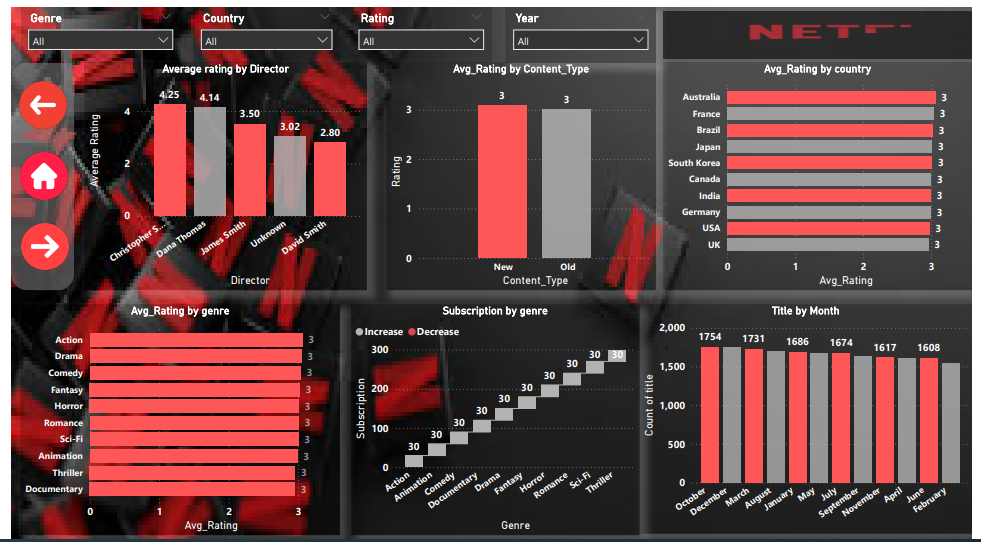

The dashboard page shown, as its layout file describes it:
{"tool":"powerbi","page":{"name":"R & D","canvas":[1280,720],"ordinal":1},"visuals":[{"type":"lineStackedColumnComboChart","title":"Average rating by Director","fields":{"Y":["Avg(netflix_customer_ratings_20000.rating)"],"Category":["netflix_dataset_20000 csv.director"]},"box":[98.3,73.7,375.9,303.6],"z":0},{"type":"clusteredColumnChart","title":"Title by Month","fields":{"Category":["netflix_dataset_20000 csv.Month"],"Y":["CountNonNull(netflix_dataset_20000 csv.title)"]},"box":[837.1,396.1,442.4,305.1],"z":1000},{"type":"waterfallChart","title":"Subscription by genre","fields":{"Category":["netflix_dataset_20000 csv.genre"],"Y":["CountNonNull(Sub_Type.subscription_type)"]},"box":[452.5,396.1,384.6,306.5],"z":2000},{"type":"clusteredColumnChart","title":"Avg_Rating by Content_Type ","fields":{"Category":["netflix_dataset_20000 csv.Content_Type"],"Y":["netflix_customer_ratings_20000.Avg_Rating"]},"box":[500.2,73.7,358.6,303.6],"z":3000},{"type":"clusteredBarChart","fields":{"Category":["netflix_dataset_20000 csv.genre"],"Y":["netflix_customer_ratings_20000.Avg_Rating"]},"box":[13,396.1,425.1,306.5],"z":4000},{"type":"barChart","fields":{"Category":["netflix_customer_ratings_20000.country"],"Y":["netflix_customer_ratings_20000.Avg_Rating"]},"box":[868.9,73.7,410.6,303.6],"z":5000},{"type":"slicer","fields":{"Values":["netflix_dataset_20000 csv.genre","netflix_customer_ratings_20000.Watcher_type"]},"box":[13,0,212.5,73.7],"z":6000},{"type":"slicer","fields":{"Values":["netflix_customer_ratings_20000.country"]},"box":[242.9,0,195.2,73.7],"z":7000},{"type":"slicer","fields":{"Values":["netflix_customer_ratings_20000.rating"]},"box":[452.5,0,188,73.7],"z":8000},{"type":"slicer","fields":{"Values":["netflix_dataset_20000 csv.release_year"]},"box":[659.3,0,199.5,73.7],"z":9000},{"type":"shape","box":[0,73.7,83.9,303.6],"z":10000},{"type":"image","box":[2.9,193.7,81,62.2],"z":11000},{"type":"image","box":[5.8,287.7,78.1,62.2],"z":12000},{"type":"image","box":[1.4,96.9,81,68],"z":13000},{"type":"image","box":[868.9,5.8,410.6,63.6],"z":14000}]}

Visuals, with their boxes in screenshot pixels (x1, y1, x2, y2), scaled from the page's 1280x720 canvas onto the 981x542 screenshot:
"Average rating by Director" lineStackedColumnComboChart: left=75, top=55, right=363, bottom=284
"Title by Month" clusteredColumnChart: left=642, top=298, right=980, bottom=528
"Subscription by genre" waterfallChart: left=347, top=298, right=642, bottom=529
"Avg_Rating by Content_Type " clusteredColumnChart: left=383, top=55, right=658, bottom=284
clusteredBarChart - netflix_dataset_20000 csv.genre x netflix_customer_ratings_20000.Avg_Rating: left=10, top=298, right=336, bottom=529
barChart - netflix_customer_ratings_20000.country x netflix_customer_ratings_20000.Avg_Rating: left=666, top=55, right=980, bottom=284
slicer - netflix_dataset_20000 csv.genre x netflix_customer_ratings_20000.Watcher_type: left=10, top=0, right=173, bottom=55
slicer - netflix_customer_ratings_20000.country: left=186, top=0, right=336, bottom=55
slicer - netflix_customer_ratings_20000.rating: left=347, top=0, right=491, bottom=55
slicer - netflix_dataset_20000 csv.release_year: left=505, top=0, right=658, bottom=55
shape: left=0, top=55, right=64, bottom=284
image: left=2, top=146, right=64, bottom=193
image: left=4, top=217, right=64, bottom=263
image: left=1, top=73, right=63, bottom=124
image: left=666, top=4, right=980, bottom=52
